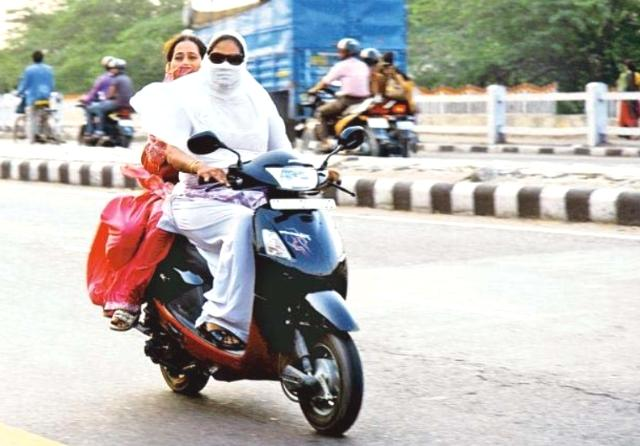licensePlate: (270, 199, 338, 211)
motorcycle: (90, 31, 365, 430)
withoutHelmet: (202, 34, 252, 90), (164, 36, 199, 82)
